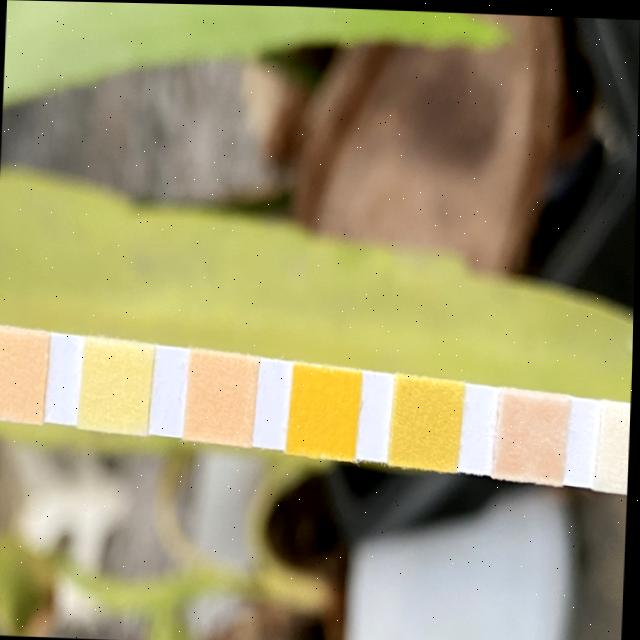Bilirubin: (598, 402, 632, 488)
Blood: (291, 366, 356, 454)
Ketone: (497, 389, 565, 476)
Protein: (81, 340, 151, 430)
SpGravity: (391, 375, 463, 466)
Urobilinogen: (0, 329, 44, 419)
pH: (187, 354, 256, 440)
